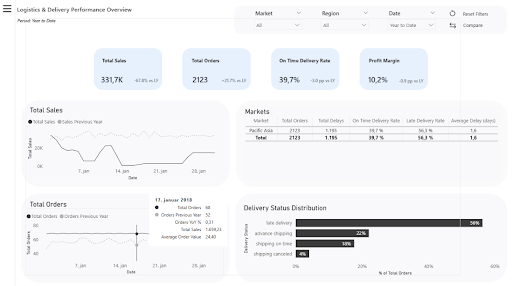

What the dashboard file says about the page in this screenshot:
{"tool":"powerbi","page":{"name":"Overview","canvas":[1280,720],"ordinal":0},"visuals":[{"type":"shape","title":"Navigation Lukket","box":[0,0,40.7,720.3],"z":0,"group":"g6"},{"type":"card","title":"KPI-Label - Total Orders","fields":{"Values":["fact_orders.Orders YoY Label"]},"box":[534.9,185.3,97.8,39.1],"z":0,"group":"g8"},{"type":"card","title":"KPI-Label - Total Sales","fields":{"Values":["fact_item.Sales YoY Label"]},"box":[320.8,185.3,90.9,39.1],"z":1000,"group":"g8"},{"type":"actionButton","title":"Menu Burger Åben","box":[8,10.5,25,25],"z":2000,"group":"g6"},{"type":"card","title":"KPI-Label - On Time Rate","fields":{"Values":["fact_orders.On Time Delivery Rate YoY Label"]},"box":[755.9,185.3,97.8,39.1],"z":2000,"group":"g8"},{"type":"card","title":"KPI-Label - Profit Margin","fields":{"Values":["fact_item.Profit Margin YoY Label"]},"box":[975.9,185.3,97.8,40.1],"z":3000,"group":"g8"},{"type":"shape","title":"Shape - Plot","box":[56.3,252,518.3,214.8],"z":3000},{"type":"shape","title":"Shape - Plot","box":[55.4,483.9,518.3,222.4],"z":3250},{"type":"shape","title":"Shape - Plot","box":[589.9,252,675.8,214.8],"z":3500},{"type":"shape","title":"Shape - Plot","box":[587.8,483.5,676.2,220.9],"z":4000},{"type":"lineChart","title":"Chart - Total Orders - Compare","fields":{"Category":["dim_date.date"],"Y":["fact_orders.Total Orders","fact_orders.Orders Previous Year"]},"box":[66,521,493,166],"z":4000,"group":"g8"},{"type":"clusteredBarChart","title":"Delivery Status Distribution","fields":{"Category":["dim_shipping.delivery_status"],"Y":["fact_orders.Total Orders"]},"box":[607.1,508.7,640.5,180.4],"z":4125,"group":"g1"},{"type":"group","id":"g1","title":"Visualiseringer","box":[607.1,269.1,640.5,420],"z":4250,"group":"g3"},{"type":"tableEx","title":"Markets","fields":{"Values":["dim_location.market","fact_orders.Total Orders","fact_orders.Total Delays","fact_orders.On Time Delivery Rate","fact_orders.Late Delivery Rate","fact_orders.Average Delay (days)"]},"box":[607.1,269.1,640.5,180.4],"z":4250,"group":"g1"},{"type":"shape","title":"Shape - KPI - 4","box":[897.7,121.9,170,103.7],"z":4500,"group":"g7"},{"type":"shape","title":"Shape - KPI 3","box":[677,121.9,170,103.7],"z":5000,"group":"g7"},{"type":"lineChart","title":"Chart - Total Sales - Compare","fields":{"Category":["dim_date.date"],"Y":["fact_item.Total Sales","fact_item.Sales Previous Year"]},"box":[70,285.5,487.3,166.3],"z":5000,"group":"g8"},{"type":"shape","title":"Shape - KPI 2","box":[456.8,121.9,170,103.7],"z":6000,"group":"g7"},{"type":"shape","title":"Shape - KPI - 1","box":[236.4,121.9,170,103.7],"z":7000,"group":"g7"},{"type":"textbox","title":"Text - KPI - 4","box":[915.3,137.8,122.2,28.4],"z":7500,"group":"g7"},{"type":"textbox","title":"Text - KPI - 3","box":[692.3,137.8,145.7,28.4],"z":8000,"group":"g7"},{"type":"textbox","title":"Text - KPI - 2","box":[474.3,137.8,92.9,28.4],"z":8250,"group":"g7"},{"type":"textbox","title":"Text - KPI - 1","box":[252.3,137.8,92.9,28.4],"z":8500,"group":"g7"},{"type":"card","title":"KPI-Tal - 4","fields":{"Values":["fact_item.Profit Margin"]},"box":[905.5,186.7,74.3,30.3],"z":8625,"group":"g7"},{"type":"card","title":"KPI-Tal - 3","fields":{"Values":["fact_orders.On Time Delivery Rate"]},"box":[685.5,186.7,74.3,30.3],"z":8750,"group":"g7"},{"type":"card","title":"KPI-Tal - 2","fields":{"Values":["fact_orders.Total Orders"]},"box":[465.5,186.7,70.4,30.3],"z":8875,"group":"g7"},{"type":"card","title":"KPI-Tal - 1","fields":{"Values":["fact_item.Total Sales"]},"box":[245.4,187.1,70.7,29.6],"z":9000,"group":"g7"},{"type":"actionButton","title":"Knap - Reset Filters","box":[1109,16.3,39.8,36.2],"z":29000,"group":"g2"},{"type":"shape","title":"Shape - Filter Panel","box":[584.8,16.3,678.9,69.7],"z":29077,"group":"g4"},{"type":"group","id":"g2","title":"Reset Filters","box":[1109,16.3,134.1,36.2],"z":29202,"group":"g4"},{"type":"textbox","title":"Text - Reset Filters","box":[1150.3,22,92.7,28.9],"z":29218,"group":"g2"},{"type":"shape","title":"Overskrift - Chart - Total Orders","box":[72.2,491.1,216.6,36.1],"z":29233,"group":"g4"},{"type":"shape","title":"Overskrift - Chart - Total Sales","box":[72.2,256,216.6,36.1],"z":29264,"group":"g4"},{"type":"textbox","title":"Text - Compare","box":[1150,50,92,28.9],"z":29327,"group":"g4"},{"type":"slicer","title":"Market Slicer","fields":{"Values":["dim_location.market"]},"box":[624.5,21.1,139.7,60],"z":29437,"group":"g4"},{"type":"slicer","title":"Region Slicer","fields":{"Values":["dim_location.order_region"]},"box":[791,21.1,139.7,60],"z":29875,"group":"g4"},{"type":"slicer","title":"Date Slicer","fields":{"Values":["DatePeriodFilter.Period"]},"box":[957.4,21.1,139.7,60],"z":30750,"group":"g4"},{"type":"shape","title":"Periode","box":[41.1,36.2,223.9,33.2],"z":31187,"group":"g4"},{"type":"shape","title":"Titel","box":[40.4,0,340.5,50.2],"z":31625,"group":"g4"},{"type":"group","id":"g3","title":"Dashboard Indhold","box":[236.4,121.9,1011.2,567.2],"z":34687},{"type":"group","id":"g4","title":"Overskrifter og Filtres","box":[40.4,0,1223.3,527.2],"z":35250},{"type":"group","id":"g5","title":"Compare","box":[66,47,1082,640.6],"z":35500},{"type":"group","id":"g6","title":"Bar Lukket","box":[0,0,40.7,720.3],"z":35750},{"type":"group","id":"g7","title":"KPI Området","box":[236.4,121.9,831.3,103.7],"z":37001,"group":"g3"},{"type":"group","id":"g8","title":"Compare Elementer","box":[66,185.3,1007.7,502.4],"z":37001,"group":"g5"},{"type":"actionButton","title":"Compare Knap Tændt","box":[1109,47,39,36],"z":37251,"group":"g5"}]}

Visuals, with their boxes in screenshot pixels (x1, y1, x2, y2), scaled from the page's 1280x720 canvas onto the 512x286 screenshot:
"Navigation Lukket" shape: 0, 0, 16, 285
"KPI-Label - Total Orders" card: 214, 74, 253, 89
"KPI-Label - Total Sales" card: 128, 74, 165, 89
"Menu Burger Åben" actionButton: 3, 4, 13, 14
"KPI-Label - On Time Rate" card: 302, 74, 341, 89
"KPI-Label - Profit Margin" card: 390, 74, 429, 90
"Shape - Plot" shape: 23, 100, 230, 185
"Shape - Plot" shape: 22, 192, 229, 281
"Shape - Plot" shape: 236, 100, 506, 185
"Shape - Plot" shape: 235, 192, 506, 280
"Chart - Total Orders - Compare" lineChart: 26, 207, 224, 273
"Delivery Status Distribution" clusteredBarChart: 243, 202, 499, 274
"Visualiseringer" group: 243, 107, 499, 274
"Markets" tableEx: 243, 107, 499, 179
"Shape - KPI - 4" shape: 359, 48, 427, 90
"Shape - KPI 3" shape: 271, 48, 339, 90
"Chart - Total Sales - Compare" lineChart: 28, 113, 223, 179
"Shape - KPI 2" shape: 183, 48, 251, 90
"Shape - KPI - 1" shape: 95, 48, 163, 90
"Text - KPI - 4" textbox: 366, 55, 415, 66
"Text - KPI - 3" textbox: 277, 55, 335, 66
"Text - KPI - 2" textbox: 190, 55, 227, 66
"Text - KPI - 1" textbox: 101, 55, 138, 66
"KPI-Tal - 4" card: 362, 74, 392, 86
"KPI-Tal - 3" card: 274, 74, 304, 86
"KPI-Tal - 2" card: 186, 74, 214, 86
"KPI-Tal - 1" card: 98, 74, 126, 86
"Knap - Reset Filters" actionButton: 444, 6, 460, 21
"Shape - Filter Panel" shape: 234, 6, 505, 34
"Reset Filters" group: 444, 6, 497, 21
"Text - Reset Filters" textbox: 460, 9, 497, 20
"Overskrift - Chart - Total Orders" shape: 29, 195, 116, 209
"Overskrift - Chart - Total Sales" shape: 29, 102, 116, 116
"Text - Compare" textbox: 460, 20, 497, 31
"Market Slicer" slicer: 250, 8, 306, 32
"Region Slicer" slicer: 316, 8, 372, 32
"Date Slicer" slicer: 383, 8, 439, 32
"Periode" shape: 16, 14, 106, 28
"Titel" shape: 16, 0, 152, 20
"Dashboard Indhold" group: 95, 48, 499, 274
"Overskrifter og Filtres" group: 16, 0, 505, 209
"Compare" group: 26, 19, 459, 273
"Bar Lukket" group: 0, 0, 16, 285
"KPI Området" group: 95, 48, 427, 90
"Compare Elementer" group: 26, 74, 429, 273
"Compare Knap Tændt" actionButton: 444, 19, 459, 33
